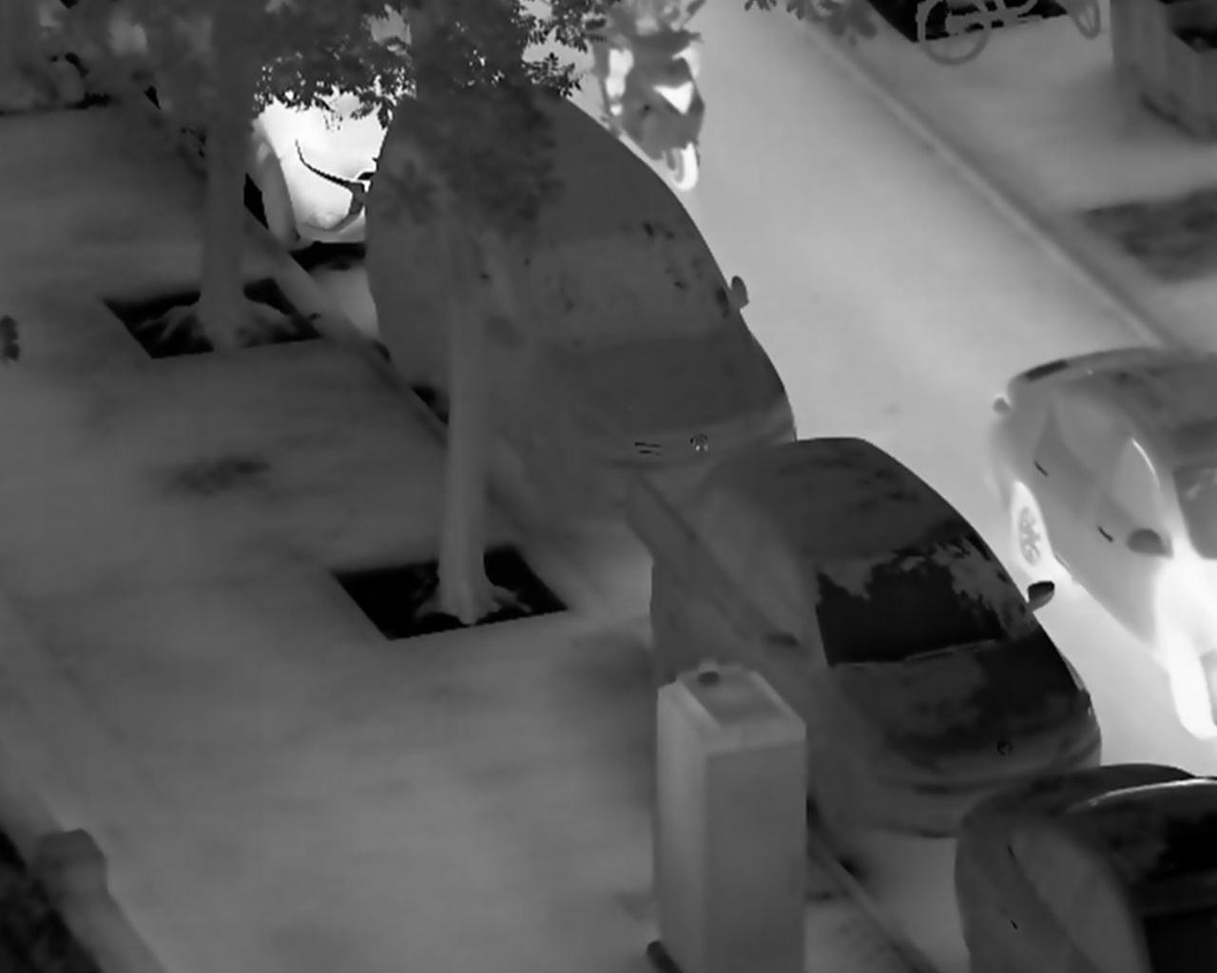person: (591, 3, 705, 130)
